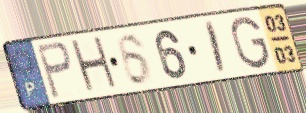6: (116, 32, 155, 87), (153, 28, 189, 82)
G: (229, 15, 272, 72)
H: (68, 34, 122, 97)
I: (204, 19, 228, 77)
P: (34, 40, 74, 101)
